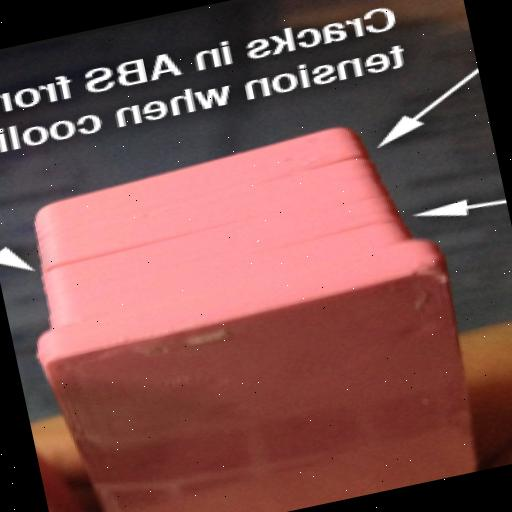cracks: (227, 136, 400, 203), (34, 230, 190, 294), (299, 207, 421, 259)
